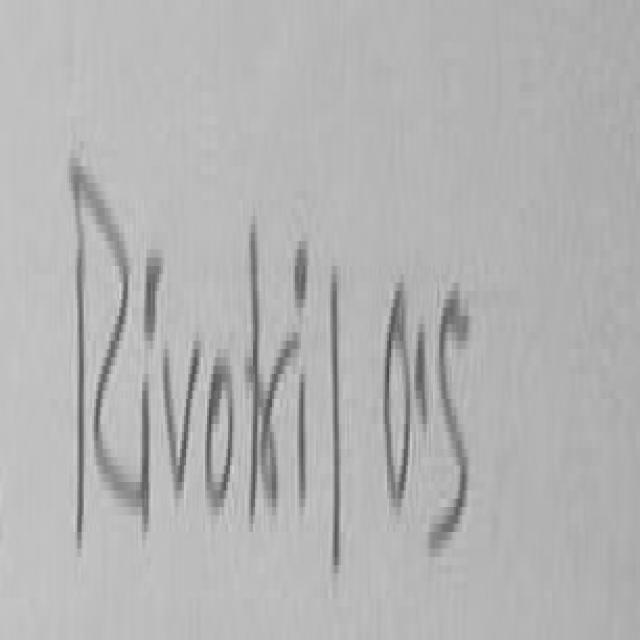0: (384, 295, 413, 503)
5: (431, 291, 471, 544)
R: (74, 158, 140, 544)
i: (138, 374, 148, 528), (144, 258, 155, 337), (299, 374, 305, 503), (295, 241, 304, 303)
l: (331, 267, 341, 561)
o: (205, 357, 234, 514)
r: (253, 346, 290, 505)
t: (246, 224, 266, 519)
v: (162, 353, 201, 486)
